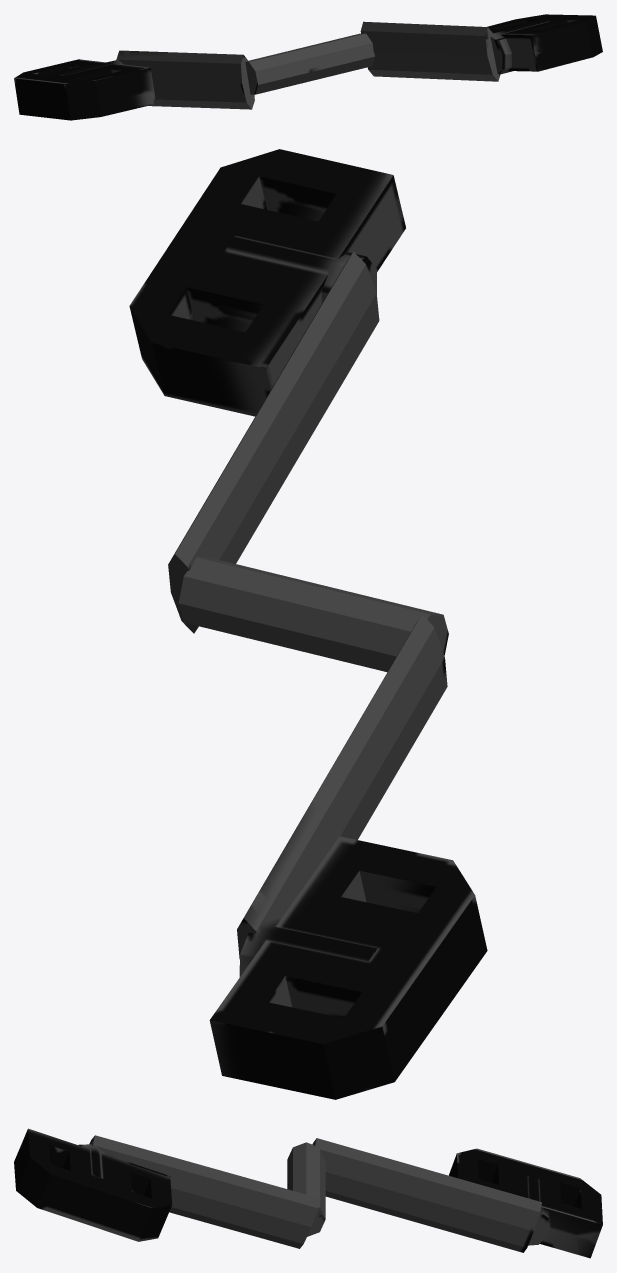
Rendered from Bicycle_Pedals.fbx.
3 views of the same model, one above another, from view 1: azimuth 30°, elevation 25°; view 2: azimuth 150°, elevation 25°; view 3: azimuth 270°, elevation 25° (orthographic). The views are drawn at different scales.
Visible parts, largest first — view 1: Pedals; view 2: Pedals; view 3: Pedals.
Boxes of the visible parts, x1,y1,x2,y2 form: Pedals: [14, 14, 602, 120]; Pedals: [129, 149, 487, 1099]; Pedals: [14, 1128, 602, 1258].
Bounding box in the file's own units: 0.2007 × 0.122 × 0.2919.
